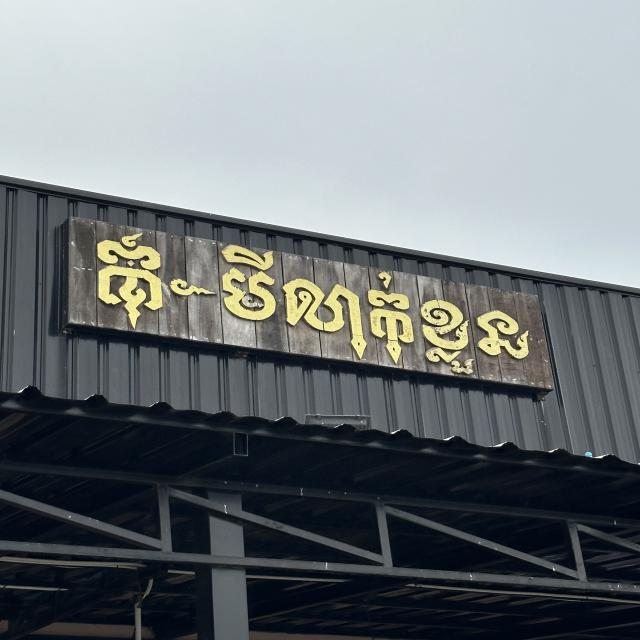Yolov11kh: (210, 244, 531, 381)
